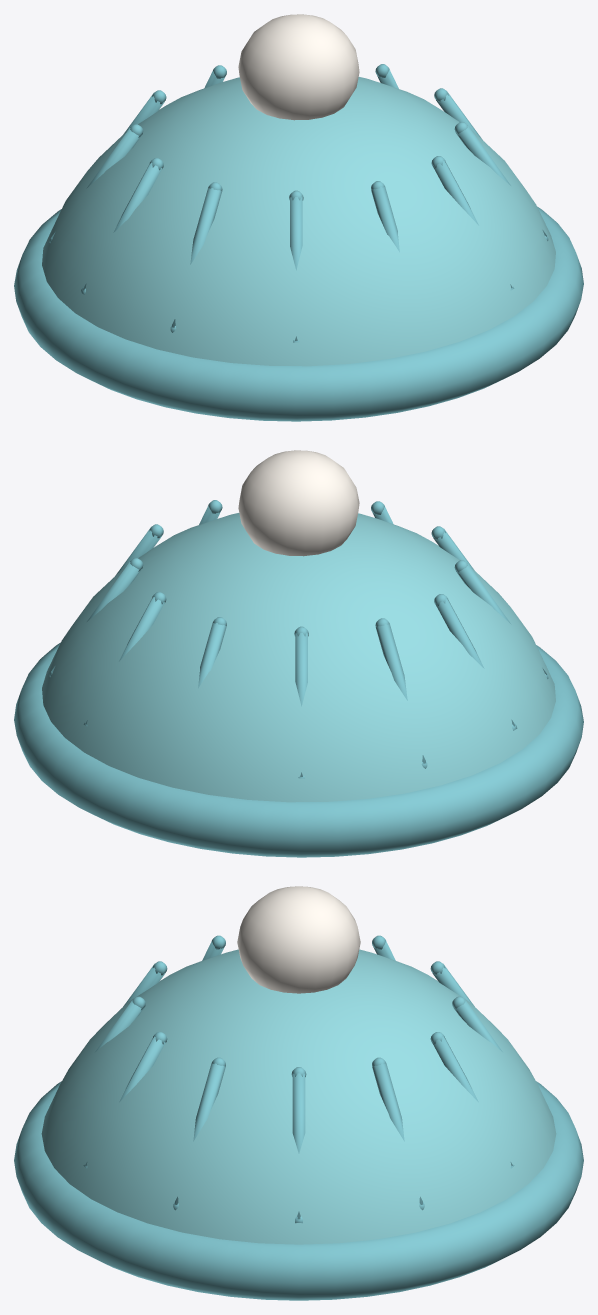
The model's file is beanie.glb.
3 renders of one model, top to bottom at view 1: azimuth 30°, elevation 25°; view 2: azimuth 150°, elevation 25°; view 3: azimuth 270°, elevation 25°, orthographic.
Parts seen in each view (by area): view 1: Head; view 2: Head; view 3: Head.
Boxes of the visible parts, x1,y1,x2,y2 form: Head: [14, 14, 583, 421]; Head: [14, 450, 583, 857]; Head: [14, 886, 583, 1300].
Bounding box in the file's own units: 0.4465 × 0.2506 × 0.4385.
